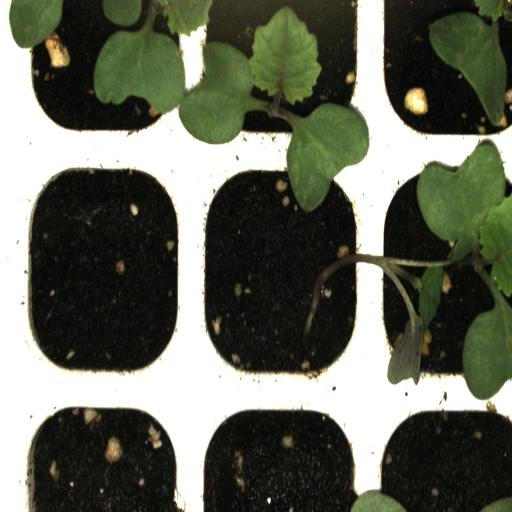askew: (190, 156, 372, 384)
noseedling: (15, 156, 190, 383)
seedling: (372, 155, 512, 387), (187, 2, 373, 162)
